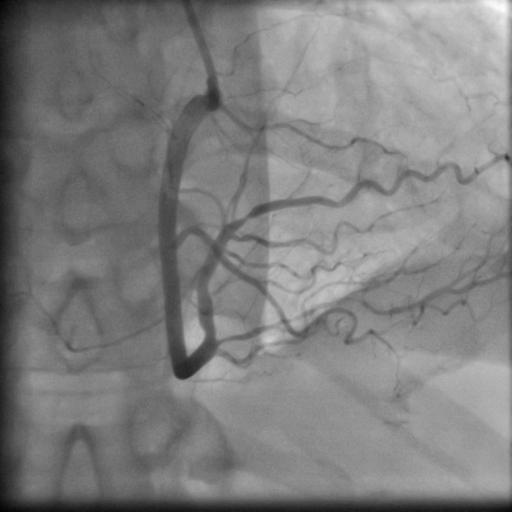Stenosis: (227, 208, 262, 230)
